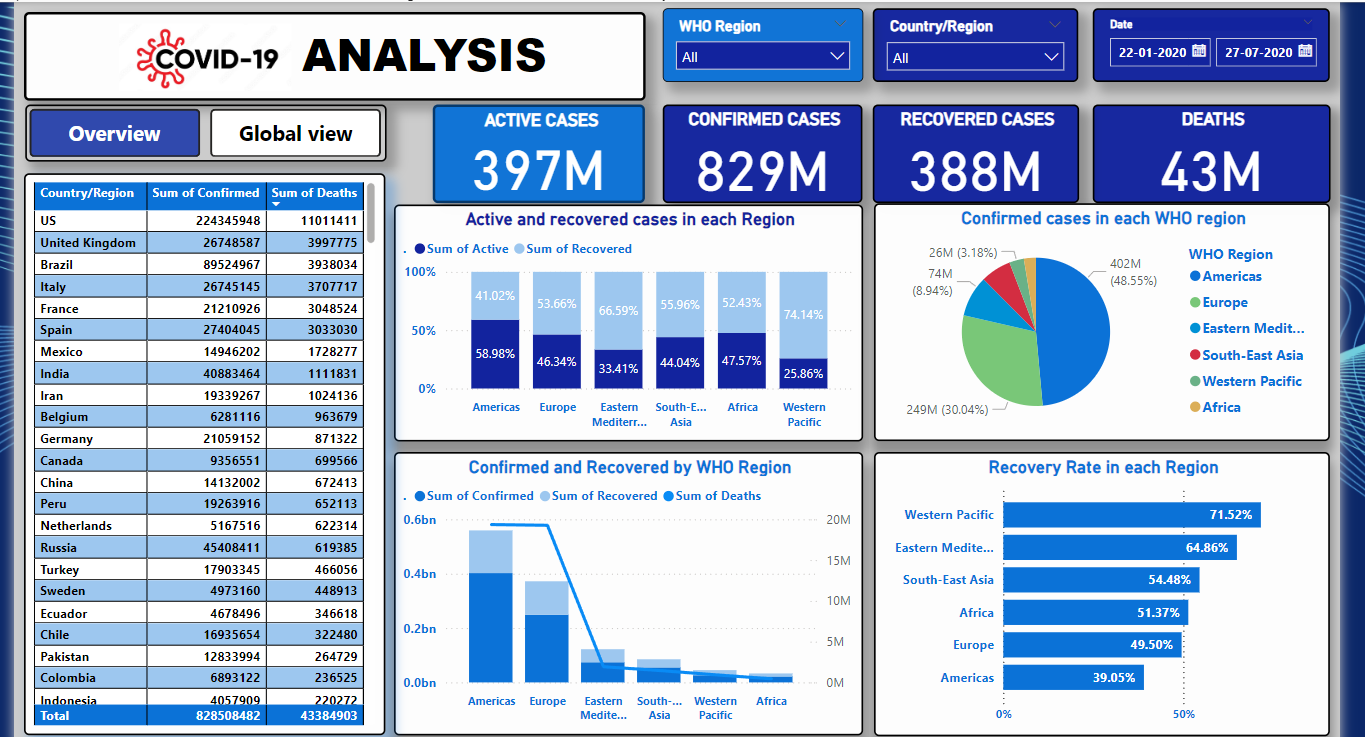

This screenshot's page, from the dashboard's own definition file:
{"tool":"powerbi","page":{"name":"Overview","canvas":[1280,720],"ordinal":0},"visuals":[{"type":"slicer","fields":{"Values":["covid_19_clean_complete.Country/Region"]},"box":[829.2,6.1,198.5,71.4],"z":0},{"type":"textbox","box":[9.7,9.7,599.6,85.7],"z":1000},{"type":"slicer","fields":{"Values":["covid_19_clean_complete.WHO Region"]},"box":[625.8,6.1,193.7,71.4],"z":2000},{"type":"slicer","fields":{"Values":["covid_19_clean_complete.Date"]},"box":[1041,6.1,228.8,71.4],"z":3000},{"type":"card","title":"ACTIVE CASES","fields":{"Values":["Sum(covid_19_clean_complete.Active)"]},"box":[404.2,98.9,205.1,95.3],"z":4000},{"type":"card","title":"DEATHS","fields":{"Values":["Sum(covid_19_clean_complete.Deaths)"]},"box":[1041.2,98.9,229.2,95.3],"z":5000},{"type":"card","title":"CONFIRMED CASES","fields":{"Values":["Sum(covid_19_clean_complete.Confirmed)"]},"box":[626.1,98.9,193,95.3],"z":6000},{"type":"card","title":"RECOVERED CASES","fields":{"Values":["Sum(covid_19_clean_complete.Recovered)"]},"box":[828.8,98.9,199.1,95.3],"z":7000},{"type":"pageNavigator","box":[10.9,98.9,348.7,55.5],"z":8000},{"type":"hundredPercentStackedColumnChart","title":"Active and recovered cases in each Region","fields":{"Category":["covid_19_clean_complete.WHO Region"],"Y":["Sum(covid_19_clean_complete.Active)","Sum(covid_19_clean_complete.Recovered)"]},"box":[366.8,194.9,452.7,228.8],"z":9000},{"type":"pieChart","title":"Confirmed cases in each WHO region","fields":{"Y":["Sum(covid_19_clean_complete.Confirmed)"],"Category":["covid_19_clean_complete.WHO Region"]},"box":[829.6,194.8,440,229.4],"z":10000},{"type":"barChart","title":"Recovery Rate in each Region","fields":{"Category":["covid_19_clean_complete.WHO Region"],"Y":["covid_19_clean_complete.Recovery Percentage"]},"box":[829.6,434.3,440,274.1],"z":11000},{"type":"lineStackedColumnComboChart","title":"Confirmed and Recovered by WHO Region","fields":{"Category":["covid_19_clean_complete.WHO Region"],"Y":["Sum(covid_19_clean_complete.Confirmed)","Sum(covid_19_clean_complete.Recovered)"],"Y2":["Sum(covid_19_clean_complete.Deaths)"]},"box":[366.8,434.6,452.7,273.6],"z":12000},{"type":"tableEx","fields":{"Values":["covid_19_clean_complete.Country/Region","Sum(covid_19_clean_complete.Confirmed)","Sum(covid_19_clean_complete.Deaths)"]},"box":[9.7,165.8,348.6,542.3],"z":13000},{"type":"image","box":[96.5,14.5,176.1,77.2],"z":14000}]}

Visuals, with their boxes in screenshot pixels (x1, y1, x2, y2):
slicer - covid_19_clean_complete.Country/Region: <bbox>870, 3, 1077, 77</bbox>
textbox: <bbox>14, 7, 640, 96</bbox>
slicer - covid_19_clean_complete.WHO Region: <bbox>657, 3, 860, 77</bbox>
slicer - covid_19_clean_complete.Date: <bbox>1091, 3, 1330, 77</bbox>
"ACTIVE CASES" card: <bbox>426, 100, 640, 199</bbox>
"DEATHS" card: <bbox>1091, 100, 1331, 199</bbox>
"CONFIRMED CASES" card: <bbox>658, 100, 859, 199</bbox>
"RECOVERED CASES" card: <bbox>870, 100, 1078, 199</bbox>
pageNavigator: <bbox>15, 100, 379, 158</bbox>
"Active and recovered cases in each Region" hundredPercentStackedColumnChart: <bbox>387, 200, 860, 439</bbox>
"Confirmed cases in each WHO region" pieChart: <bbox>870, 200, 1330, 440</bbox>
"Recovery Rate in each Region" barChart: <bbox>870, 450, 1330, 736</bbox>
"Confirmed and Recovered by WHO Region" lineStackedColumnComboChart: <bbox>387, 451, 860, 736</bbox>
tableEx - covid_19_clean_complete.Country/Region x Sum(covid_19_clean_complete.Confirmed): <bbox>14, 170, 378, 736</bbox>
image: <bbox>104, 12, 288, 92</bbox>
